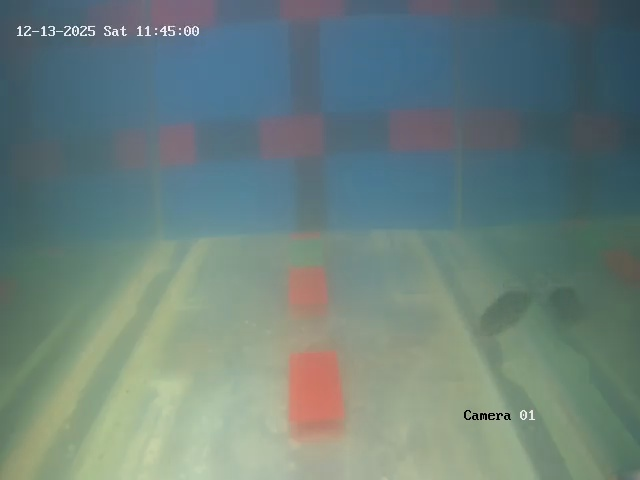fish: (477, 284, 534, 341)
